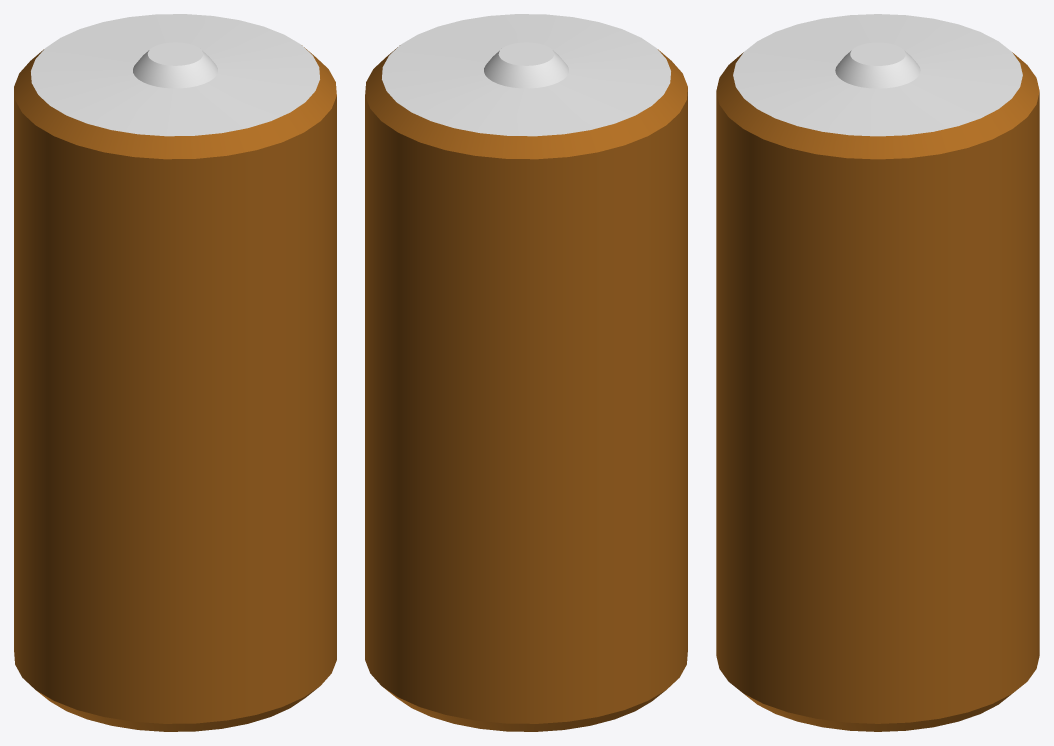
Rendered from Battery.fbx.
3 views of the same model, side by side, from view 1: azimuth 30°, elevation 25°; view 2: azimuth 150°, elevation 25°; view 3: azimuth 270°, elevation 25° (orthographic).
Visible parts, largest first — view 1: Cylinder; view 2: Cylinder; view 3: Cylinder.
Boxes of the visible parts, x1,y1,x2,y2 form: Cylinder: (14, 14, 336, 731); Cylinder: (365, 14, 687, 731); Cylinder: (716, 14, 1039, 731).
Bounding box in the file's own units: 4.53 × 9.53 × 4.53.
